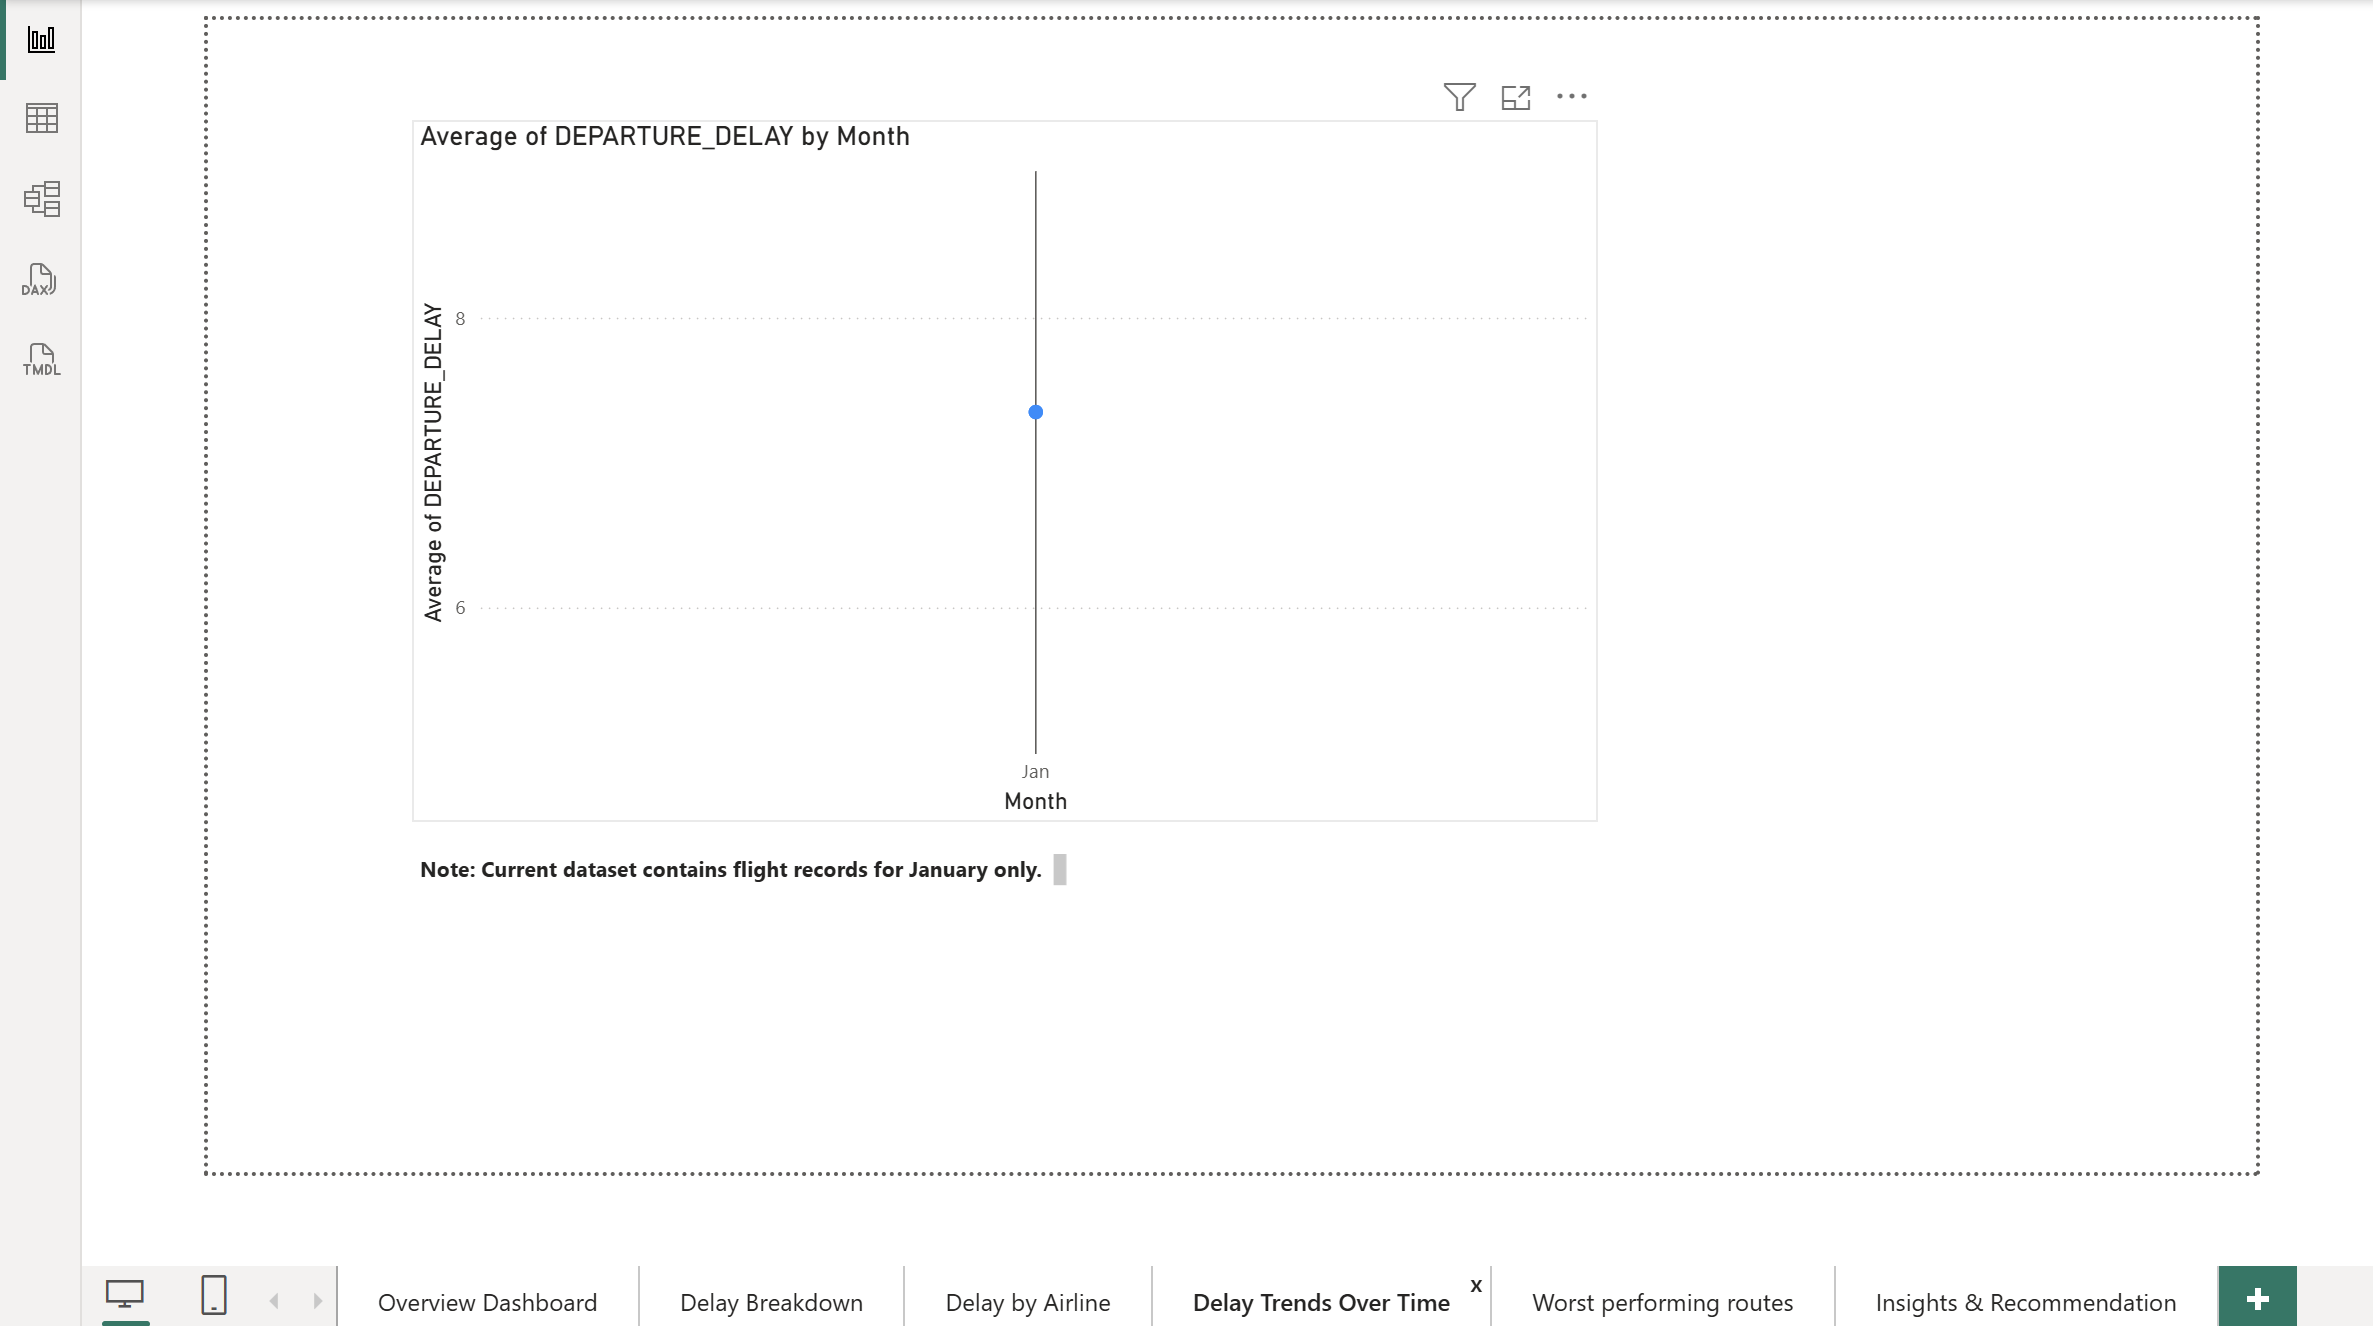

The dashboard page shown, as its layout file describes it:
{"tool":"powerbi","page":{"name":"Delay Trends Over Time","canvas":[1280,720],"ordinal":3},"visuals":[{"type":"lineChart","fields":{"Category":["MonthTable.Month"],"Y":["Avg(flights.DEPARTURE_DELAY)"]},"box":[127.5,62.5,741.2,438.8],"z":0},{"type":"textbox","box":[127.5,516.2,413.8,36.2],"z":1000}]}

Visuals, with their boxes on the page's 1280x720 design canvas (x1, y1, x2, y2). These are canvas units, not pixel positions in the 2373x1326 screenshot, which may show the page scaled, cropped or inside an application window:
lineChart - MonthTable.Month x Avg(flights.DEPARTURE_DELAY): 128,62,869,501
textbox: 128,516,541,552
